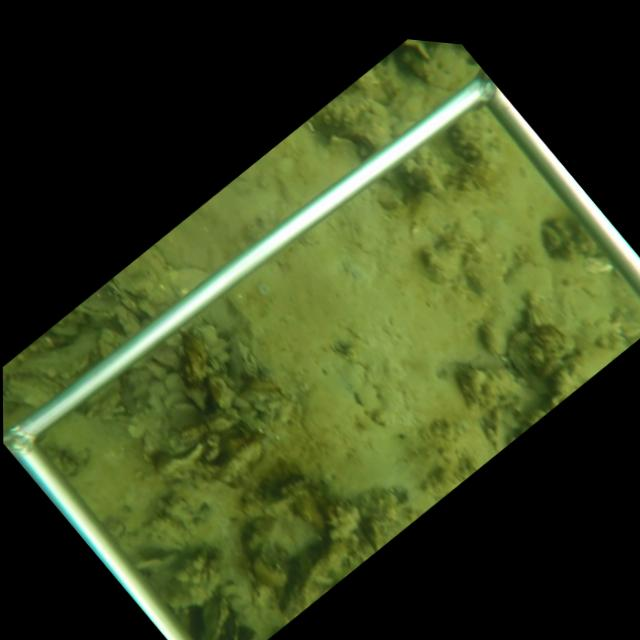Oyster-Indeterminate: (308, 83, 396, 157)
Oyster-Open: (74, 298, 117, 319)
